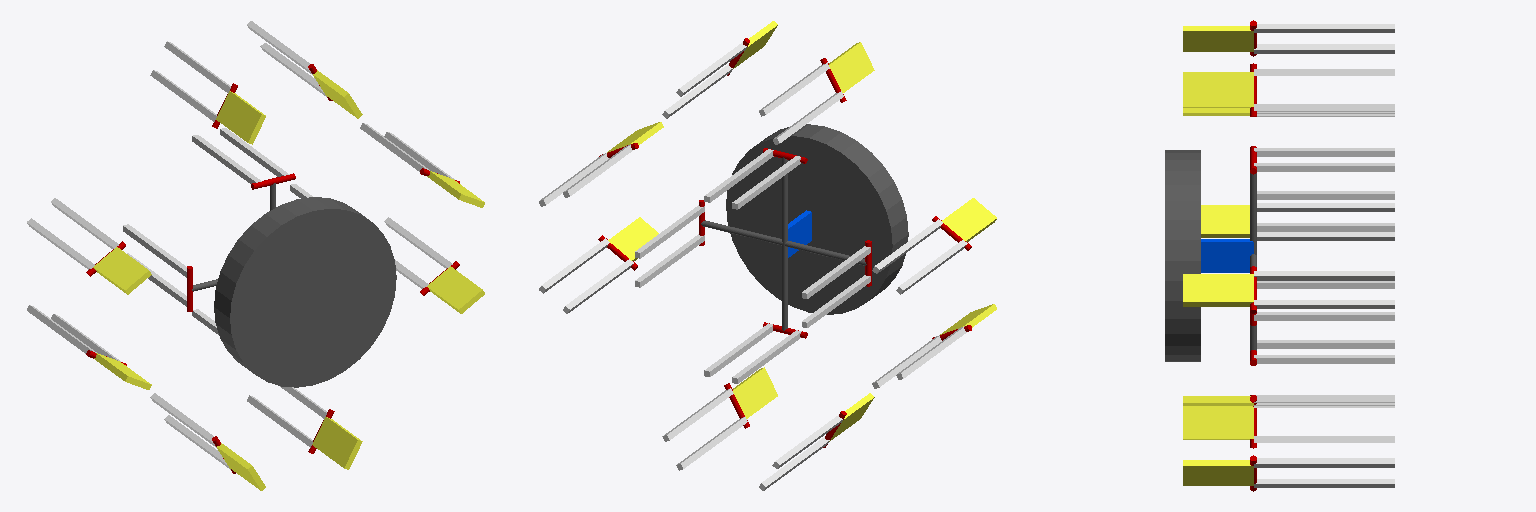
--- What the picture shows (computed from the rendered views, not written in the file) ---
3 views of the same robot in one strip: view 1: azimuth 30°, elevation 25°; view 2: azimuth 150°, elevation 25°; view 3: azimuth 270°, elevation 25° (orthographic).
Model ur5e with 61 links and 60 joints (42 revolute, 9 prismatic, 9 fixed), rooted at world, posed all joints at 0.
Links seen in each view (by area): view 1: dbase_link, motor_link_5, motor_link_9, motor_link_2, motor_link_6, motor_link_4, motor_link_8, parallel_2_leg1, parallel_1_leg2, parallel_2_leg2, motor_link_7, motor_link_3 (+12 smaller); view 2: dbase_link, motor_link_5, motor_link_9, motor_link_2, motor_link_6, parallel_2_leg2, parallel_4_leg1, parallel_3_leg2, parallel_2_leg1, parallel_3_leg1, parallel_4_leg2, parallel_1_leg1 (+21 smaller); view 3: dbase_link, motor_link_4, motor_link_8, motor_link_7, motor_link_5, motor_link_9, motor_link_1, motor_link_3, parallel_10_leg2, parallel_8_leg2, parallel_12_leg2, parallel_3_leg2 (+18 smaller).
Link boxes in pixels (box(x1,y1,x2,y2)): dbase_link: box(214, 197, 396, 387); motor_link_5: box(216, 91, 265, 144); motor_link_9: box(312, 417, 362, 469); motor_link_2: box(93, 247, 151, 294); motor_link_6: box(427, 266, 484, 313); motor_link_4: box(313, 70, 362, 118); motor_link_8: box(217, 443, 265, 490); parallel_2_leg1: box(192, 135, 261, 183); parallel_1_leg2: box(123, 224, 186, 277); parallel_2_leg2: box(220, 128, 289, 176); motor_link_7: box(427, 171, 484, 207); motor_link_3: box(94, 353, 151, 389); dbase_link: box(726, 124, 908, 314); motor_link_5: box(829, 42, 874, 92); motor_link_9: box(733, 367, 777, 418); motor_link_2: box(942, 198, 996, 241); motor_link_6: box(608, 217, 658, 260); parallel_2_leg2: box(704, 149, 773, 202); parallel_4_leg1: box(704, 323, 772, 376); parallel_3_leg2: box(635, 234, 704, 287); parallel_2_leg1: box(732, 156, 800, 209); parallel_3_leg1: box(635, 205, 704, 258); parallel_4_leg2: box(732, 330, 801, 383); parallel_1_leg1: box(802, 275, 870, 327); dbase_link: box(1165, 150, 1200, 361); motor_link_4: box(1183, 72, 1253, 107); motor_link_8: box(1183, 406, 1253, 439); motor_link_7: box(1183, 274, 1253, 306); motor_link_5: box(1183, 26, 1253, 51); motor_link_9: box(1183, 460, 1253, 485); motor_link_1: box(1201, 239, 1253, 272); motor_link_3: box(1201, 205, 1249, 237); parallel_10_leg2: box(1254, 271, 1394, 280); parallel_8_leg2: box(1254, 44, 1394, 53); parallel_12_leg2: box(1254, 458, 1394, 467); parallel_3_leg2: box(1254, 312, 1394, 320).
Size in the robot's own frame: 0.134 by 0.065 by 0.134 metres.
0 mesh visuals loaded from 7 distinct referenced files (none loaded); not drawn: 7 (reference not matched to a file when rendering).

URDF robot description (ur5e):
<?xml version="1" ?>
<!-- =================================================================================== -->
<!-- This document is combination of following:  -->

<!-- ur5e.urdf.xacro -->

 <!-- =================================================================================== -->
 <robot name="ur5e" xmlns:xacro="http://ros.org/wiki/xacro">
    <material name="black">
        <color rgba="0 0 0 1"/>
    </material>
    <material name="LightGrey">
        <color rgba="0.7 0.7 0.7 1.0"/>
    </material>
    <material name="darkgrey">
        <color rgba="0.3 0.3 0.3 1"/>
    </material>
    <material name="grey">
        <color rgba="0.5 0.5 0.5 1"/>
    </material>
    <material name="firebrick">
        <color rgba="0.545 0.102 0.102 1"/>
    </material>
    <material name="white">
        <color rgba="0.9 0.9 0.9 1"/>
    </material>
    <material  name="Black" >
     <color  rgba="0 0 0 1" />
    </material>
    <material  name="Blue" >
     <color  rgba="0.0 0.0 0.8 1.0" />
    </material>
    <material  name="Green" >
     <color  rgba="0.0 0.8 0.0 1.0" />
    </material>
    <material  name="Grey" >
     <color  rgba="0.4 0.4 0.4 1.0" />
    </material>
    <material  name="Orange" >
     <color  rgba="1.0 0.4235294117647059 0.0392156862745098 1.0" />
    </material>
    <material  name="Brown" >
     <color  rgba="0.8705882352941177 0.8117647058823529 0.7647058823529411 1.0" />
    </material>
    <material  name="Red" >
     <color  rgba="0.8 0.0 0.0 1.0" />
    </material>
    <material  name="BananaYellow" >
     <color  rgba="0.9803921568627451 0.996078431372549 0.29411764705882354 1.0" />
    </material>
    <material  name="BrightBlue" >
     <color  rgba="0.00392156862745098 0.396078431372549 0.9882352941176471 1.0" />
    </material>
    <material  name="White" >
     <color  rgba="1.0 1.0 1.0 1.0" />
    </material>
   <link name="base_link">
     <visual>
       <geometry>
         <mesh filename="ur5e_robot/collision/base.stl"/>
       </geometry>
       <material name="LightGrey">
         <color rgba="0.7 0.7 0.7 1.0"/>
       </material>
     </visual>
     <collision>
       <geometry>
         <mesh filename="ur5e_robot/collision/base.stl" scale="1.0 1.0 1.0"/>
       </geometry>
     </collision>
     <inertial>
       <mass value="4.0"/>
       <origin rpy="0 0 0" xyz="0.0 0.0 0.0"/>
       <inertia ixx="0.00443333156" ixy="0.0" ixz="0.0" iyy="0.00443333156" iyz="0.0" izz="0.0072"/>
     </inertial>
   </link>
   <joint name="shoulder_pan_joint" type="revolute">
     <parent link="base_link"/>
     <child link="shoulder_link"/>
     <origin rpy="0.0 0.0 0.0" xyz="0.0 0.0 0.163"/>
     <axis xyz="0 0 1"/>
     <limit effort="150.0" lower="-6.28318530718" upper="6.28318530718" velocity="1"/>
     <dynamics damping="0.0" friction="0.0"/>
   </joint>
   <link name="shoulder_link">
     <visual>
       <geometry>
         <mesh filename="ur5e_robot//collision//shoulder.stl"/>
       </geometry>
       <material name="darkgrey"/>
     </visual>
     <collision>
       <geometry>
         <mesh filename="ur5e_robot//collision//shoulder.stl" scale="1.0 1.0 1.0"/>
       </geometry>
     </collision>
     <inertial>
       <mass value="3.7"/>
       <origin rpy="0 0 0" xyz="0.0 0.0 0.0"/>
       <inertia ixx="0.010267495893" ixy="0.0" ixz="0.0" iyy="0.010267495893" iyz="0.0" izz="0.00666"/>
     </inertial>
   </link>
   <joint name="shoulder_lift_joint" type="revolute">
     <parent link="shoulder_link"/>
     <child link="upper_arm_link"/>
     <origin rpy="0.0 1.57079632679 0.0" xyz="0.0 0.138 0.0"/>
     <axis xyz="0 1 0"/>
     <limit effort="150.0" lower="-6.28318530718" upper="6.28318530718" velocity="1"/>
     <dynamics damping="0.0" friction="0.0"/>
   </joint>
   <link name="upper_arm_link">
     <visual>
       <geometry>
         <mesh filename="ur5e_robot//collision//upperarm.stl"/>
       </geometry>
       <material name="LightGrey"/>
     </visual>
     <collision>
       <geometry>
         <mesh filename="ur5e_robot//collision//upperarm.stl" scale="1.0 1.0 1.0"/>
       </geometry>
     </collision>
     <inertial>
       <mass value="8.393"/>
       <origin rpy="0 0 0" xyz="0.0 0.0 0.2125"/>
       <inertia ixx="0.133885781862" ixy="0.0" ixz="0.0" iyy="0.133885781862" iyz="0.0" izz="0.0151074"/>
     </inertial>
   </link>
   <joint name="elbow_joint" type="revolute">
     <parent link="upper_arm_link"/>
     <child link="forearm_link"/>
     <origin rpy="0.0 0.0 0.0" xyz="0.0 -0.131 0.425"/>
     <axis xyz="0 1 0"/>
     <limit effort="150.0" lower="-3.14159265359" upper="3.14159265359" velocity="1"/>
     <dynamics damping="0.0" friction="0.0"/>
   </joint>
   <link name="forearm_link">
     <visual>
       <geometry>
         <mesh filename="ur5e_robot//collision//forearm.stl"/>
       </geometry>
       <material name="LightGrey"/>

     </visual>
     <collision>
       <geometry>
         <mesh filename="ur5e_robot//collision//forearm.stl" scale="1.0 1.0 1.0"/>
       </geometry>
     </collision>
     <inertial>
       <mass value="2.275"/>
       <origin rpy="0 0 0" xyz="0.0 0.0 0.196"/>
       <inertia ixx="0.0311796208615" ixy="0.0" ixz="0.0" iyy="0.0311796208615" iyz="0.0" izz="0.004095"/>
     </inertial>
   </link>
   <joint name="wrist_1_joint" type="revolute">
     <parent link="forearm_link"/>
     <child link="wrist_1_link"/>
     <origin rpy="0.0 1.57079632679 0.0" xyz="0.0 0.0 0.392"/>
     <axis xyz="0 1 0"/>
     <limit effort="28.0" lower="-6.28318530718" upper="6.28318530718" velocity="1"/>
     <dynamics damping="0.0" friction="0.0"/>
   </joint>
   <link name="wrist_1_link">
     <visual>
       <geometry>
         <mesh filename="ur5e_robot//collision//wrist1.stl"/>
       </geometry>
       <material name="darkgrey"/>

     </visual>
     <collision>
       <geometry>
         <mesh filename="ur5e_robot//collision//wrist1.stl" scale="1.0 1.0 1.0"/>
       </geometry>
     </collision>
     <inertial>
       <mass value="1.219"/>
       <origin rpy="0 0 0" xyz="0.0 0.127 0.0"/>
       <inertia ixx="0.00255989897604" ixy="0.0" ixz="0.0" iyy="0.00255989897604" iyz="0.0" izz="0.0021942"/>
     </inertial>
   </link>
   <joint name="wrist_2_joint" type="revolute">
     <parent link="wrist_1_link"/>
     <child link="wrist_2_link"/>
     <origin rpy="0.0 0.0 0.0" xyz="0.0 0.127 0.0"/>
     <axis xyz="0 0 1"/>
     <limit effort="28.0" lower="-6.28318530718" upper="6.28318530718" velocity="1"/>
     <dynamics damping="0.0" friction="0.0"/>
   </joint>
   <link name="wrist_2_link">
     <visual>
       <geometry>
         <mesh filename="ur5e_robot//collision//wrist2.stl"/>
       </geometry>
       <material name="darkgrey"/>
     </visual>
     <collision>
       <geometry>
         <mesh filename="ur5e_robot//collision//wrist2.stl" scale="1.0 1.0 1.0"/>
       </geometry>
     </collision>
     <inertial>
       <mass value="1.219"/>
       <origin rpy="0 0 0" xyz="0.0 0.0 0.1"/>
       <inertia ixx="0.00255989897604" ixy="0.0" ixz="0.0" iyy="0.00255989897604" iyz="0.0" izz="0.0021942"/>
     </inertial>
   </link>
   <joint name="wrist_3_joint" type="revolute">
     <parent link="wrist_2_link"/>
     <child link="wrist_3_link"/>
     <origin rpy="0.0 0.0 0.0" xyz="0.0 0.0 0.1"/>
     <axis xyz="0 1 0"/>
     <limit effort="28.0" lower="-6.28318530718" upper="6.28318530718" velocity="1"/>
     <dynamics damping="0.0" friction="0.0"/>
   </joint>
   <link name="wrist_3_link">
     <visual>
       <geometry>
         <mesh filename="ur5e_robot//collision//wrist3.stl"/>
       </geometry>
       <material name="LightGrey"/>
     </visual>
     <collision>
       <geometry>
         <mesh filename="ur5e_robot//collision//wrist3.stl" scale="1.0 1.0 1.0"/>
       </geometry>
     </collision>
     <inertial>
       <mass value="0.1879"/>
       <origin rpy="1.57079632679 0 0" xyz="0.0 0.0771 0.0"/>
       <inertia ixx="9.89041005217e-05" ixy="0.0" ixz="0.0" iyy="9.89041005217e-05" iyz="0.0" izz="0.0001321171875"/>
     </inertial>
   </link>
   <joint name="ee_link" type="fixed">
     <parent link="wrist_3_link"/>
     <child link="ee_link"/>
     <origin rpy="0.0 0.0 1.57079632679" xyz="0.0 0.1 0.0"/>
   </joint>
   <link name="ee_link">
     <collision>
       <geometry>
         <box size="0.01 0.01 0.01"/>
       </geometry>
       <origin rpy="0 0 0" xyz="-0.01 0 0"/>
     </collision>
   </link>
   <transmission name="shoulder_pan_trans">
     <type>transmission_interface/SimpleTransmission</type>
     <joint name="shoulder_pan_joint">
       <hardwareInterface>hardware_interface/PositionJointInterface</hardwareInterface>
     </joint>
     <actuator name="shoulder_pan_motor">
       <mechanicalReduction>1</mechanicalReduction>
     </actuator>
   </transmission>
   <transmission name="shoulder_lift_trans">
     <type>transmission_interface/SimpleTransmission</type>
     <joint name="shoulder_lift_joint">
       <hardwareInterface>hardware_interface/PositionJointInterface</hardwareInterface>
     </joint>
     <actuator name="shoulder_lift_motor">
       <mechanicalReduction>1</mechanicalReduction>
     </actuator>
   </transmission>
   <transmission name="elbow_trans">
     <type>transmission_interface/SimpleTransmission</type>
     <joint name="elbow_joint">
       <hardwareInterface>hardware_interface/PositionJointInterface</hardwareInterface>
     </joint>
     <actuator name="elbow_motor">
       <mechanicalReduction>1</mechanicalReduction>
     </actuator>
   </transmission>
   <transmission name="wrist_1_trans">
     <type>transmission_interface/SimpleTransmission</type>
     <joint name="wrist_1_joint">
       <hardwareInterface>hardware_interface/PositionJointInterface</hardwareInterface>
     </joint>
     <actuator name="wrist_1_motor">
       <mechanicalReduction>1</mechanicalReduction>
     </actuator>
   </transmission>
   <transmission name="wrist_2_trans">
     <type>transmission_interface/SimpleTransmission</type>
     <joint name="wrist_2_joint">
       <hardwareInterface>hardware_interface/PositionJointInterface</hardwareInterface>
     </joint>
     <actuator name="wrist_2_motor">
       <mechanicalReduction>1</mechanicalReduction>
     </actuator>
   </transmission>
   <transmission name="wrist_3_trans">
     <type>transmission_interface/SimpleTransmission</type>
     <joint name="wrist_3_joint">
       <hardwareInterface>hardware_interface/PositionJointInterface</hardwareInterface>
     </joint>
     <actuator name="wrist_3_motor">
       <mechanicalReduction>1</mechanicalReduction>
     </actuator>
   </transmission>
   <gazebo reference="shoulder_link">
     <selfCollide>true</selfCollide>
   </gazebo>
   <gazebo reference="upper_arm_link">
     <selfCollide>true</selfCollide>
   </gazebo>
   <gazebo reference="forearm_link">
     <selfCollide>true</selfCollide>
   </gazebo>
   <gazebo reference="wrist_1_link">
     <selfCollide>true</selfCollide>
   </gazebo>
   <gazebo reference="wrist_3_link">
     <selfCollide>true</selfCollide>
   </gazebo>
   <gazebo reference="wrist_2_link">
     <selfCollide>true</selfCollide>
   </gazebo>
   <gazebo reference="ee_link">
     <selfCollide>true</selfCollide>
   </gazebo>
   <!-- ROS base_link to UR 'Base' Coordinates transform -->
   <link name="base"/>
   <joint name="base_link-base_fixed_joint" type="fixed">
     <!-- NOTE: this rotation is only needed as long as base_link itself is
                  not corrected wrt the real robot (ie: rotated over 180
                  degrees)
       -->
     <origin rpy="0 0 -3.14159265359" xyz="0 0 0"/>
     <parent link="base_link"/>
     <child link="base"/>
   </joint>
   <!-- Frame coincident with all-zeros TCP on UR controller -->
   <link name="tool0"/>
   <joint name="wrist_3_link-tool0_fixed_joint" type="fixed">
     <origin rpy="-1.57079632679 0 0" xyz="0 0.1 0"/>
     <parent link="wrist_3_link"/>
     <child link="tool0"/>
   </joint>
   <link name="world"/>
   <joint name="world_joint" type="fixed">
     <parent link="world"/>
     <child link="base_link"/>
     <origin rpy="0.0 0.0 0.0" xyz="0.0 0.0 0.0"/>
   </joint>

   <!-- delta.urdf -->
   <joint  type="fixed"  name="base_joint" >
    <parent  link="ee_link" />
    <child  link="dbase_link" />
    <origin  rpy="0 1.57079632679 0"  xyz="0 0.0 0" />
   </joint>
   <link  name="dbase_link" >
    <inertial >
     <mass  value="0.01" />
     <inertia  izz="0.001"  ixz="0.0"  iyy="0.001"  ixy="0.0"  iyz="0.0"  ixx="0.001" />
    </inertial>
    <visual >
     <origin  xyz="0 0 0"  rpy="0 0 0" />
     <geometry >
      <cylinder  length="0.01"  radius="0.03" />
     </geometry>
     <material  name="Grey" />
    </visual>
    <collision >
     <origin  xyz="0 0 0"  rpy="0 0 0" />
     <geometry >
      <cylinder  length="0.01"  radius="0.03" />
     </geometry>
     <material  name="Grey" />
    </collision>
   </link>
   <joint  name="motor_joint_1"  type="prismatic" >
    <axis  xyz="0 0 1" />
    <limit  velocity="1"  upper="0.1"  lower="0.0"  effort="100" />
    <parent  link="dbase_link" />
    <child  link="motor_link_1" />
    <origin  xyz="0 0 0"  rpy="0 0 0" />
   </joint>
   <link  name="motor_link_1" >
    <inertial >
     <mass  value="0.01" />
     <inertia  izz="0.001"  ixz="0.0"  iyy="0.001"  ixy="0.0"  iyz="0.0"  ixx="0.001" />
    </inertial>
    <visual >
     <origin  xyz="0 0 0.01"  rpy="0 0 0" />
     <geometry >
      <box  size="0.01 0.002 0.02" />
     </geometry>
     <material  name="BrightBlue" />
    </visual>
    <collision >
     <origin  xyz="0 0 0.01"  rpy="0 0 0" />
     <geometry >
      <box  size="0.01 0.002 0.02" />
     </geometry>
     <material  name="BrightBlue" />
    </collision>
   </link>
   <joint  name="motor_joint_2"  type="prismatic" >
    <axis  xyz="0 0 1" />
    <limit  velocity="1"  upper="0.1"  lower="0.0"  effort="100" />
    <parent  link="dbase_link" />
    <child  link="motor_link_2" />
    <origin  xyz="0.017320508075688773 -0.06 0.0"  rpy="0 0 -2.0943951023931953" />
   </joint>
   <link  name="motor_link_2" >
    <inertial >
     <mass  value="0.01" />
     <inertia  izz="0.001"  ixz="0.0"  iyy="0.001"  ixy="0.0"  iyz="0.0"  ixx="0.001" />
    </inertial>
    <visual >
     <origin  xyz="0 0 0.01"  rpy="0 0 0" />
     <geometry >
      <box  size="0.01 0.002 0.02" />
     </geometry>
     <material  name="BananaYellow" />
    </visual>
    <collision >
     <origin  xyz="0 0 0.01"  rpy="0 0 0" />
     <geometry >
      <box  size="0.01 0.002 0.02" />
     </geometry>
     <material  name="BananaYellow" />
    </collision>
   </link>
   <joint  name="motor_joint_3"  type="prismatic" >
    <axis  xyz="0 0 1" />
    <limit  velocity="1"  upper="0.1"  lower="0.0"  effort="100" />
    <parent  link="dbase_link" />
    <child  link="motor_link_3" />
    <origin  xyz="-0.017320508075688773 -0.06 0.0"  rpy="0 0 2.0943951023931953" />
   </joint>
   <link  name="motor_link_3" >
    <inertial >
     <mass  value="0.01" />
     <inertia  izz="0.001"  ixz="0.0"  iyy="0.001"  ixy="0.0"  iyz="0.0"  ixx="0.001" />
    </inertial>
    <visual >
     <origin  xyz="0 0 0.01"  rpy="0 0 0" />
     <geometry >
      <box  size="0.01 0.002 0.02" />
     </geometry>
     <material  name="BananaYellow" />
    </visual>
    <collision >
     <origin  xyz="0 0 0.01"  rpy="0 0 0" />
     <geometry >
      <box  size="0.01 0.002 0.02" />
     </geometry>
     <material  name="BananaYellow" />
    </collision>
   </link>
   <joint  name="motor_joint_4"  type="prismatic" >
    <axis  xyz="0 0 1" />
    <limit  velocity="1"  upper="0.1"  lower="0.0"  effort="100" />
    <parent  link="dbase_link" />
    <child  link="motor_link_4" />
    <origin  xyz="0.06 0.017320508075688773 0.0"  rpy="0 0 -0.5235987755982988" />
   </joint>
   <link  name="motor_link_4" >
    <inertial >
     <mass  value="0.01" />
     <inertia  izz="0.001"  ixz="0.0"  iyy="0.001"  ixy="0.0"  iyz="0.0"  ixx="0.001" />
    </inertial>
    <visual >
     <origin  xyz="0 0 0.01"  rpy="0 0 0" />
     <geometry >
      <box  size="0.01 0.002 0.02" />
     </geometry>
     <material  name="BananaYellow" />
    </visual>
    <collision >
     <origin  xyz="0 0 0.01"  rpy="0 0 0" />
     <geometry >
      <box  size="0.01 0.002 0.02" />
     </geometry>
     <material  name="BananaYellow" />
    </collision>
   </link>
   <joint  name="motor_joint_5"  type="prismatic" >
    <axis  xyz="0 0 1" />
    <limit  velocity="1"  upper="0.1"  lower="0.0"  effort="100" />
    <parent  link="dbase_link" />
    <child  link="motor_link_5" />
    <origin  xyz="0.06 -0.017320508075688773 0.0"  rpy="0 0 -2.6179938779914944" />
   </joint>
   <link  name="motor_link_5" >
    <inertial >
     <mass  value="0.01" />
     <inertia  izz="0.001"  ixz="0.0"  iyy="0.001"  ixy="0.0"  iyz="0.0"  ixx="0.001" />
    </inertial>
    <visual >
     <origin  xyz="0 0 0.01"  rpy="0 0 0" />
     <geometry >
      <box  size="0.01 0.002 0.02" />
     </geometry>
     <material  name="BananaYellow" />
    </visual>
    <collision >
     <origin  xyz="0 0 0.01"  rpy="0 0 0" />
     <geometry >
      <box  size="0.01 0.002 0.02" />
     </geometry>
     <material  name="BananaYellow" />
    </collision>
   </link>
   <joint  name="motor_joint_6"  type="prismatic" >
    <axis  xyz="0 0 1" />
    <limit  velocity="1"  upper="0.1"  lower="0.0"  effort="100" />
    <parent  link="dbase_link" />
    <child  link="motor_link_6" />
    <origin  xyz="-0.017320508075688773 0.06 0.0"  rpy="0 0 1.0471975511965976" />
   </joint>
   <link  name="motor_link_6" >
    <inertial >
     <mass  value="0.01" />
     <inertia  izz="0.001"  ixz="0.0"  iyy="0.001"  ixy="0.0"  iyz="0.0"  ixx="0.001" />
    </inertial>
    <visual >
     <origin  xyz="0 0 0.01"  rpy="0 0 0" />
     <geometry >
      <box  size="0.01 0.002 0.02" />
     </geometry>
     <material  name="BananaYellow" />
    </visual>
    <collision >
     <origin  xyz="0 0 0.01"  rpy="0 0 0" />
     <geometry >
      <box  size="0.01 0.002 0.02" />
     </geometry>
     <material  name="BananaYellow" />
    </collision>
   </link>
   <joint  name="motor_joint_7"  type="prismatic" >
    <axis  xyz="0 0 1" />
    <limit  velocity="1"  upper="0.1"  lower="0.0"  effort="100" />
    <parent  link="dbase_link" />
    <child  link="motor_link_7" />
    <origin  xyz="0.017320508075688773 0.06 0.0"  rpy="0 0 -1.0471975511965976" />
   </joint>
   <link  name="motor_link_7" >
    <inertial >
     <mass  value="0.01" />
     <inertia  izz="0.001"  ixz="0.0"  iyy="0.001"  ixy="0.0"  iyz="0.0"  ixx="0.001" />
    </inertial>
    <visual >
     <origin  xyz="0 0 0.01"  rpy="0 0 0" />
     <geometry >
      <box  size="0.01 0.002 0.02" />
     </geometry>
     <material  name="BananaYellow" />
    </visual>
    <collision >
     <origin  xyz="0 0 0.01"  rpy="0 0 0" />
     <geometry >
      <box  size="0.01 0.002 0.02" />
     </geometry>
     <material  name="BananaYellow" />
    </collision>
   </link>
   <joint  name="motor_joint_8"  type="prismatic" >
    <axis  xyz="0 0 1" />
    <limit  velocity="1"  upper="0.1"  lower="0.0"  effort="100" />
    <parent  link="dbase_link" />
    <child  link="motor_link_8" />
    <origin  xyz="-0.06 -0.017320508075688773 0.0"  rpy="0 0 2.6179938779914944" />
   </joint>
   <link  name="motor_link_8" >
    <inertial >
     <mass  value="0.01" />
     <inertia  izz="0.001"  ixz="0.0"  iyy="0.001"  ixy="0.0"  iyz="0.0"  ixx="0.001" />
    </inertial>
    <visual >
     <origin  xyz="0 0 0.01"  rpy="0 0 0" />
     <geometry >
      <box  size="0.01 0.002 0.02" />
     </geometry>
     <material  name="BananaYellow" />
    </visual>
    <collision >
     <origin  xyz="0 0 0.01"  rpy="0 0 0" />
     <geometry >
      <box  size="0.01 0.002 0.02" />
     </geometry>
     <material  name="BananaYellow" />
    </collision>
   </link>
   <joint  name="motor_joint_9"  type="prismatic" >
    <axis  xyz="0 0 1" />
    <limit  velocity="1"  upper="0.1"  lower="0.0"  effort="100" />
    <parent  link="dbase_link" />
    <child  link="motor_link_9" />
    <origin  xyz="-0.06 0.017320508075688773 0.0"  rpy="0 0 0.5235987755982988" />
   </joint>
   <link  name="motor_link_9" >
    <inertial >
     <mass  value="0.01" />
     <inertia  izz="0.001"  ixz="0.0"  iyy="0.001"  ixy="0.0"  iyz="0.0"  ixx="0.001" />
    </inertial>
    <visual >
     <origin  xyz="0 0 0.01"  rpy="0 0 0" />
     <geometry >
      <box  size="0.01 0.002 0.02" />
     </geometry>
     <material  name="BananaYellow" />
    </visual>
    <collision >
     <origin  xyz="0 0 0.01"  rpy="0 0 0" />
     <geometry >
      <box  size="0.01 0.002 0.02" />
     </geometry>
     <material  name="BananaYellow" />
    </collision>
   </link>
   <joint  name="bar_joint_1"  type="fixed" >
    <parent  link="motor_link_1" />
    <child  link="bar_link_1" />
    <origin  xyz="0 0 0.02"  rpy="1.5707963267948966 0 0.0" />
   </joint>
   <link  name="bar_link_1" >
    <inertial >
     <mass  value="0.01" />
     <inertia  izz="0.001"  ixz="0.0"  iyy="0.001"  ixy="0.0"  iyz="0.0"  ixx="0.001" />
    </inertial>
    <visual >
     <origin  xyz="0 0 0.015"  rpy="0 0 0" />
     <geometry >
      <cylinder  length="0.03"  radius="0.001" />
     </geometry>
     <material  name="Grey" />
    </visual>
    <collision >
     <origin  xyz="0 0 0.015"  rpy="0 0 0" />
     <geometry >
      <cylinder  length="0.03"  radius="0.001" />
     </geometry>
     <material  name="Grey" />
    </collision>
   </link>
   <joint  name="bar_joint_2"  type="fixed" >
    <parent  link="motor_link_1" />
    <child  link="bar_link_2" />
    <origin  xyz="0 0 0.02"  rpy="1.5707963267948966 0 1.5707963267948966" />
   </joint>
   <link  name="bar_link_2" >
    <inertial >
     <mass  value="0.01" />
     <inertia  izz="0.001"  ixz="0.0"  iyy="0.001"  ixy="0.0"  iyz="0.0"  ixx="0.001" />
    </inertial>
    <visual >
     <origin  xyz="0 0 0.015"  rpy="0 0 0" />
     <geometry >
      <cylinder  length="0.03"  radius="0.001" />
     </geometry>
     <material  name="Grey" />
    </visual>
    <collision >
     <origin  xyz="0 0 0.015"  rpy="0 0 0" />
     <geometry >
      <cylinder  length="0.03"  radius="0.001" />
     </geometry>
     <material  name="Grey" />
    </collision>
   </link>
   <joint  name="bar_joint_3"  type="fixed" >
    <parent  link="motor_link_1" />
    <child  link="bar_link_3" />
    <origin  xyz="0 0 0.02"  rpy="1.5707963267948966 0 3.141592653589793" />
   </joint>
   <link  name="bar_link_3" >
    <inertial >
     <mass  value="0.01" />
     <inertia  izz="0.001"  ixz="0.0"  iyy="0.001"  ixy="0.0"  iyz="0.0"  ixx="0.001" />
    </inertial>
    <visual >
     <origin  xyz="0 0 0.015"  rpy="0 0 0" />
     <geometry >
      <cylinder  length="0.03"  radius="0.001" />
     </geometry>
     <material  name="Grey" />
    </visual>
    <collision >
     <origin  xyz="0 0 0.015"  rpy="0 0 0" />
     <geometry >
      <cylinder  length="0.03"  radius="0.001" />
     </geometry>
     <material  name="Grey" />
    </collision>
   </link>
   <joint  name="bar_joint_4"  type="fixed" >
    <parent  link="motor_link_1" />
    <child  link="bar_link_4" />
    <origin  xyz="0 0 0.02"  rpy="1.5707963267948966 0 -1.5707963267948966" />
   </joint>
   <link  name="bar_link_4" >
    <inertial >
     <mass  value="0.01" />
     <inertia  izz="0.001"  ixz="0.0"  iyy="0.001"  ixy="0.0"  iyz="0.0"  ixx="0.001" />
    </inertial>
    <visual >
     <origin  xyz="0 0 0.015"  rpy="0 0 0" />
     <geometry >
      <cylinder  length="0.03"  radius="0.001" />
     </geometry>
     <material  name="Grey" />
    </visual>
    <collision >
     <origin  xyz="0 0 0.015"  rpy="0 0 0" />
     <geometry >
      <cylinder  length="0.03"  radius="0.001" />
     </geometry>
     <material  name="Grey" />
    </collision>
   </link>
   <joint  name="parallel_1_kneejoint"  type="revolute" >
    <axis  xyz="1 0 0" />
    <limit  velocity="1"  upper="3.141592653589793"  lower="-3.141592653589793"  effort="100" />
    <parent  link="bar_link_1" />
    <child  link="parallel_1_knee" />
    <origin  xyz="0 0 0.03"  rpy="-1.5707963267948966 0 0" />
   </joint>
   <link  name="parallel_1_knee" >
    <inertial >
     <mass  value="0.01" />
     <inertia  izz="0.001"  ixz="0.0"  iyy="0.001"  ixy="0.0"  iyz="0.0"  ixx="0.001" />
    </inertial>
    <visual >
     <origin  xyz="0 0 0"  rpy="0 1.5707963267948966 0" />
     <geometry >
      <cylinder  length="0.015"  radius="0.001" />
     </geometry>
     <material  name="Red" />
    </visual>
    <collision >
     <origin  xyz="0 0 0"  rpy="0 1.5707963267948966 0" />
     <geometry >
      <cylinder  length="0.015"  radius="0.001" />
     </geometry>
     <material  name="Red" />
    </collision>
   </link>
   <joint  name="parallel_1_legjoint1"  type="revolute" >
    <axis  xyz="0 1 0" />
    <limit  velocity="1"  upper="1.5707963267948966"  lower="-1.5707963267948966"  effort="100" />
    <parent  link="parallel_1_knee" />
    <child  link="parallel_1_leg1" />
    <origin  xyz="-0.005 0 0"  rpy="0 0 0" />
   </joint>
   <joint  name="parallel_1_legjoint2"  type="revolute" >
    <axis  xyz="0 1 0" />
    <limit  velocity="1"  upper="1.5707963267948966"  lower="-1.5707963267948966"  effort="100" />
    <parent  link="parallel_1_knee" />
    <child  link="parallel_1_leg2" />
    <origin  xyz="0.005 0 0"  rpy="0 0 0" />
   </joint>
   <link  name="parallel_1_leg1" >
    <inertial >
     <mass  value="0.01" />
     <inertia  izz="0.001"  ixz="0.0"  iyy="0.001"  ixy="0.0"  iyz="0.0"  ixx="0.001" />
    </inertial>
    <visual >
     <origin  xyz="0 0 0.02"  rpy="0 0 0" />
     <geometry >
      <box  size="0.002 0.002 0.04" />
     </geometry>
     <material  name="white" />
    </visual>
    <collision >
     <origin  xyz="0 0 0.02"  rpy="0 0 0" />
     <geometry >
      <box  size="0.002 0.002 0.04" />
     </geometry>
     <material  name="white" />
    </collision>
   </link>
   <link  name="parallel_1_leg2" >
    <inertial >
     <mass  value="0.01" />
     <inertia  izz="0.001"  ixz="0.0"  iyy="0.001"  ixy="0.0"  iyz="0.0"  ixx="0.001" />
    </inertial>
    <visual >
     <origin  xyz="0 0 0.02"  rpy="0 0 0" />
     <geometry >
      <box  size="0.002 0.002 0.04" />
     </geometry>
     <material  name="white" />
    </visual>
    <collision >
     <origin  xyz="0 0 0.02"  rpy="0 0 0" />
     <geometry >
      <box  size="0.002 0.002 0.04" />
     </geometry>
     <material  name="white" />
    </collision>
   </link>
   <joint  name="parallel_2_kneejoint"  type="revolute" >
    <axis  xyz="1 0 0" />
    <limit  velocity="1"  upper="3.141592653589793"  lower="-3.141592653589793"  effort="100" />
    <parent  link="bar_link_2" />
    <child  link="parallel_2_knee" />
    <origin  xyz="0 0 0.03"  rpy="-1.5707963267948966 0 0" />
   </joint>
   <link  name="parallel_2_knee" >
    <inertial >
     <mass  value="0.01" />
     <inertia  izz="0.001"  ixz="0.0"  iyy="0.001"  ixy="0.0"  iyz="0.0"  ixx="0.001" />
    </inertial>
    <visual >
     <origin  xyz="0 0 0"  rpy="0 1.5707963267948966 0" />
     <geometry >
      <cylinder  length="0.015"  radius="0.001" />
     </geometry>
     <material  name="Red" />
    </visual>
    <collision >
     <origin  xyz="0 0 0"  rpy="0 1.5707963267948966 0" />
     <geometry >
      <cylinder  length="0.015"  radius="0.001" />
     </geometry>
     <material  name="Red" />
    </collision>
   </link>
   <joint  name="parallel_2_legjoint1"  type="revolute" >
    <axis  xyz="0 1 0" />
    <limit  velocity="1"  upper="1.5707963267948966"  lower="-1.5707963267948966"  effort="100" />
    <parent  link="parallel_2_knee" />
    <child  link="parallel_2_leg1" />
    <origin  xyz="-0.005 0 0"  rpy="0 0 0" />
   </joint>
   <joint  name="parallel_2_legjoint2"  type="revolute" >
    <axis  xyz="0 1 0" />
    <limit  velocity="1"  upper="1.5707963267948966"  lower="-1.5707963267948966"  effort="100" />
    <parent  link="parallel_2_knee" />
    <child  link="parallel_2_leg2" />
    <origin  xyz="0.005 0 0"  rpy="0 0 0" />
   </joint>
   <link  name="parallel_2_leg1" >
    <inertial >
     <mass  value="0.01" />
     <inertia  izz="0.001"  ixz="0.0"  iyy="0.001"  ixy="0.0"  iyz="0.0"  ixx="0.001" />
    </inertial>
    <visual >
     <origin  xyz="0 0 0.02"  rpy="0 0 0" />
     <geometry >
      <box  size="0.002 0.002 0.04" />
     </geometry>
     <material  name="white" />
    </visual>
    <collision >
     <origin  xyz="0 0 0.02"  rpy="0 0 0" />
     <geometry >
      <box  size="0.002 0.002 0.04" />
     </geometry>
     <material  name="white" />
    </collision>
   </link>
   <link  name="parallel_2_leg2" >
    <inertial >
     <mass  value="0.01" />
     <inertia  izz="0.001"  ixz="0.0"  iyy="0.001"  ixy="0.0"  iyz="0.0"  ixx="0.001" />
    </inertial>
    <visual >
     <origin  xyz="0 0 0.02"  rpy="0 0 0" />
     <geometry >
      <box  size="0.002 0.002 0.04" />
     </geometry>
     <material  name="white" />
    </visual>
    <collision >
     <origin  xyz="0 0 0.02"  rpy="0 0 0" />
     <geometry >
      <box  size="0.002 0.002 0.04" />
     </geometry>
     <material  name="white" />
    </collision>
   </link>
   <joint  name="parallel_3_kneejoint"  type="revolute" >
    <axis  xyz="1 0 0" />
    <limit  velocity="1"  upper="3.141592653589793"  lower="-3.141592653589793"  effort="100" />
    <parent  link="bar_link_3" />
    <child  link="parallel_3_knee" />
    <origin  xyz="0 0 0.03"  rpy="-1.5707963267948966 0 0" />
   </joint>
   <link  name="parallel_3_knee" >
    <inertial >
     <mass  value="0.01" />
     <inertia  izz="0.001"  ixz="0.0"  iyy="0.001"  ixy="0.0"  iyz="0.0"  ixx="0.001" />
    </inertial>
    <visual >
     <origin  xyz="0 0 0"  rpy="0 1.5707963267948966 0" />
     <geometry >
      <cylinder  length="0.015"  radius="0.001" />
     </geometry>
     <material  name="Red" />
    </visual>
    <collision >
     <origin  xyz="0 0 0"  rpy="0 1.5707963267948966 0" />
     <geometry >
      <cylinder  length="0.015"  radius="0.001" />
     </geometry>
     <material  name="Red" />
    </collision>
   </link>
   <joint  name="parallel_3_legjoint1"  type="revolute" >
    <axis  xyz="0 1 0" />
    <limit  velocity="1"  upper="1.5707963267948966"  lower="-1.5707963267948966"  effort="100" />
    <parent  link="parallel_3_knee" />
    <child  link="parallel_3_leg1" />
    <origin  xyz="-0.005 0 0"  rpy="0 0 0" />
   </joint>
   <joint  name="parallel_3_legjoint2"  type="revolute" >
    <axis  xyz="0 1 0" />
    <limit  velocity="1"  upper="1.5707963267948966"  lower="-1.5707963267948966"  effort="100" />
    <parent  link="parallel_3_knee" />
    <child  link="parallel_3_leg2" />
    <origin  xyz="0.005 0 0"  rpy="0 0 0" />
   </joint>
   <link  name="parallel_3_leg1" >
    <inertial >
     <mass  value="0.01" />
     <inertia  izz="0.001"  ixz="0.0"  iyy="0.001"  ixy="0.0"  iyz="0.0"  ixx="0.001" />
    </inertial>
    <visual >
     <origin  xyz="0 0 0.02"  rpy="0 0 0" />
     <geometry >
      <box  size="0.002 0.002 0.04" />
     </geometry>
     <material  name="white" />
    </visual>
    <collision >
     <origin  xyz="0 0 0.02"  rpy="0 0 0" />
     <geometry >
      <box  size="0.002 0.002 0.04" />
     </geometry>
     <material  name="white" />
    </collision>
   </link>
   <link  name="parallel_3_leg2" >
    <inertial >
     <mass  value="0.01" />
     <inertia  izz="0.001"  ixz="0.0"  iyy="0.001"  ixy="0.0"  iyz="0.0"  ixx="0.001" />
    </inertial>
    <visual >
     <origin  xyz="0 0 0.02"  rpy="0 0 0" />
     <geometry >
      <box  size="0.002 0.002 0.04" />
     </geometry>
     <material  name="white" />
    </visual>
    <collision >
     <origin  xyz="0 0 0.02"  rpy="0 0 0" />
     <geometry >
      <box  size="0.002 0.002 0.04" />
     </geometry>
     <material  name="white" />
    </collision>
   </link>
   <joint  name="parallel_4_kneejoint"  type="revolute" >
    <axis  xyz="1 0 0" />
    <limit  velocity="1"  upper="3.141592653589793"  lower="-3.141592653589793"  effort="100" />
    <parent  link="bar_link_4" />
    <child  link="parallel_4_knee" />
    <origin  xyz="0 0 0.03"  rpy="-1.5707963267948966 0 0" />
   </joint>
   <link  name="parallel_4_knee" >
    <inertial >
     <mass  value="0.01" />
     <inertia  izz="0.001"  ixz="0.0"  iyy="0.001"  ixy="0.0"  iyz="0.0"  ixx="0.001" />
    </inertial>
    <visual >
     <origin  xyz="0 0 0"  rpy="0 1.5707963267948966 0" />
     <geometry >
      <cylinder  length="0.015"  radius="0.001" />
     </geometry>
     <material  name="Red" />
    </visual>
    <collision >
     <origin  xyz="0 0 0"  rpy="0 1.5707963267948966 0" />
     <geometry >
      <cylinder  length="0.015"  radius="0.001" />
     </geometry>
     <material  name="Red" />
    </collision>
   </link>
   <joint  name="parallel_4_legjoint1"  type="revolute" >
    <axis  xyz="0 1 0" />
    <limit  velocity="1"  upper="1.5707963267948966"  lower="-1.5707963267948966"  effort="100" />
    <parent  link="parallel_4_knee" />
    <child  link="parallel_4_leg1" />
    <origin  xyz="-0.005 0 0"  rpy="0 0 0" />
   </joint>
   <joint  name="parallel_4_legjoint2"  type="revolute" >
    <axis  xyz="0 1 0" />
    <limit  velocity="1"  upper="1.5707963267948966"  lower="-1.5707963267948966"  effort="100" />
    <parent  link="parallel_4_knee" />
    <child  link="parallel_4_leg2" />
    <origin  xyz="0.005 0 0"  rpy="0 0 0" />
   </joint>
   <link  name="parallel_4_leg1" >
    <inertial >
     <mass  value="0.01" />
     <inertia  izz="0.001"  ixz="0.0"  iyy="0.001"  ixy="0.0"  iyz="0.0"  ixx="0.001" />
    </inertial>
    <visual >
     <origin  xyz="0 0 0.02"  rpy="0 0 0" />
     <geometry >
      <box  size="0.002 0.002 0.04" />
     </geometry>
     <material  name="white" />
    </visual>
    <collision >
     <origin  xyz="0 0 0.02"  rpy="0 0 0" />
     <geometry >
      <box  size="0.002 0.002 0.04" />
     </geometry>
     <material  name="white" />
    </collision>
   </link>
   <link  name="parallel_4_leg2" >
    <inertial >
     <mass  value="0.01" />
     <inertia  izz="0.001"  ixz="0.0"  iyy="0.001"  ixy="0.0"  iyz="0.0"  ixx="0.001" />
    </inertial>
    <visual >
     <origin  xyz="0 0 0.02"  rpy="0 0 0" />
     <geometry >
      <box  size="0.002 0.002 0.04" />
     </geometry>
     <material  name="white" />
    </visual>
    <collision >
     <origin  xyz="0 0 0.02"  rpy="0 0 0" />
     <geometry >
      <box  size="0.002 0.002 0.04" />
     </geometry>
     <material  name="white" />
    </collision>
   </link>
   <joint  name="parallel_5_kneejoint"  type="revolute" >
    <axis  xyz="1 0 0" />
    <limit  velocity="1"  upper="3.141592653589793"  lower="-3.141592653589793"  effort="100" />
    <parent  link="motor_link_2" />
    <child  link="parallel_5_knee" />
    <origin  xyz="0 0 0.02"  rpy="0 0 0" />
   </joint>
   <link  name="parallel_5_knee" >
    <inertial >
     <mass  value="0.01" />
     <inertia  izz="0.001"  ixz="0.0"  iyy="0.001"  ixy="0.0"  iyz="0.0"  ixx="0.001" />
    </inertial>
    <visual >
     <origin  xyz="0 0 0"  rpy="0 1.5707963267948966 0" />
     <geometry >
      <cylinder  length="0.015"  radius="0.001" />
     </geometry>
     <material  name="Red" />
    </visual>
    <collision >
     <origin  xyz="0 0 0"  rpy="0 1.5707963267948966 0" />
     <geometry >
      <cylinder  length="0.015"  radius="0.001" />
     </geometry>
     <material  name="Red" />
    </collision>
   </link>
   <joint  name="parallel_5_legjoint1"  type="revolute" >
    <axis  xyz="0 1 0" />
    <limit  velocity="1"  upper="1.5707963267948966"  lower="-1.5707963267948966"  effort="100" />
    <parent  link="parallel_5_knee" />
    <child  link="parallel_5_leg1" />
    <origin  xyz="-0.005 0 0"  rpy="0 0 0" />
   </joint>
   <joint  name="parallel_5_legjoint2"  type="revolute" >
    <axis  xyz="0 1 0" />
    <limit  velocity="1"  upper="1.5707963267948966"  lower="-1.5707963267948966"  effort="100" />
    <parent  link="parallel_5_knee" />
    <child  link="parallel_5_leg2" />
    <origin  xyz="0.005 0 0"  rpy="0 0 0" />
   </joint>
   <link  name="parallel_5_leg1" >
    <inertial >
     <mass  value="0.01" />
     <inertia  izz="0.001"  ixz="0.0"  iyy="0.001"  ixy="0.0"  iyz="0.0"  ixx="0.001" />
    </inertial>
    <visual >
     <origin  xyz="0 0 0.02"  rpy="0 0 0" />
     <geometry >
      <box  size="0.002 0.002 0.04" />
     </geometry>
     <material  name="white" />
    </visual>
    <collision >
     <origin  xyz="0 0 0.02"  rpy="0 0 0" />
     <geometry >
      <box  size="0.002 0.002 0.04" />
     </geometry>
     <material  name="white" />
    </collision>
   </link>
   <link  name="parallel_5_leg2" >
    <inertial >
     <mass  value="0.01" />
     <inertia  izz="0.001"  ixz="0.0"  iyy="0.001"  ixy="0.0"  iyz="0.0"  ixx="0.001" />
    </inertial>
    <visual >
     <origin  xyz="0 0 0.02"  rpy="0 0 0" />
     <geometry >
      <box  size="0.002 0.002 0.04" />
     </geometry>
     <material  name="white" />
    </visual>
    <collision >
     <origin  xyz="0 0 0.02"  rpy="0 0 0" />
     <geometry >
      <box  size="0.002 0.002 0.04" />
     </geometry>
     <material  name="white" />
    </collision>
   </link>
   <joint  name="parallel_6_kneejoint"  type="revolute" >
    <axis  xyz="1 0 0" />
    <limit  velocity="1"  upper="3.141592653589793"  lower="-3.141592653589793"  effort="100" />
    <parent  link="motor_link_3" />
    <child  link="parallel_6_knee" />
    <origin  xyz="0 0 0.02"  rpy="0 0 0" />
   </joint>
   <link  name="parallel_6_knee" >
    <inertial >
     <mass  value="0.01" />
     <inertia  izz="0.001"  ixz="0.0"  iyy="0.001"  ixy="0.0"  iyz="0.0"  ixx="0.001" />
    </inertial>
    <visual >
     <origin  xyz="0 0 0"  rpy="0 1.5707963267948966 0" />
     <geometry >
      <cylinder  length="0.015"  radius="0.001" />
     </geometry>
     <material  name="Red" />
    </visual>
    <collision >
     <origin  xyz="0 0 0"  rpy="0 1.5707963267948966 0" />
     <geometry >
      <cylinder  length="0.015"  radius="0.001" />
     </geometry>
     <material  name="Red" />
    </collision>
   </link>
   <joint  name="parallel_6_legjoint1"  type="revolute" >
    <axis  xyz="0 1 0" />
    <limit  velocity="1"  upper="1.5707963267948966"  lower="-1.5707963267948966"  effort="100" />
    <parent  link="parallel_6_knee" />
    <child  link="parallel_6_leg1" />
    <origin  xyz="-0.005 0 0"  rpy="0 0 0" />
   </joint>
   <joint  name="parallel_6_legjoint2"  type="revolute" >
    <axis  xyz="0 1 0" />
    <limit  velocity="1"  upper="1.5707963267948966"  lower="-1.5707963267948966"  effort="100" />
    <parent  link="parallel_6_knee" />
    <child  link="parallel_6_leg2" />
    <origin  xyz="0.005 0 0"  rpy="0 0 0" />
   </joint>
   <link  name="parallel_6_leg1" >
    <inertial >
     <mass  value="0.01" />
     <inertia  izz="0.001"  ixz="0.0"  iyy="0.001"  ixy="0.0"  iyz="0.0"  ixx="0.001" />
    </inertial>
    <visual >
     <origin  xyz="0 0 0.02"  rpy="0 0 0" />
     <geometry >
      <box  size="0.002 0.002 0.04" />
     </geometry>
     <material  name="white" />
    </visual>
    <collision >
     <origin  xyz="0 0 0.02"  rpy="0 0 0" />
     <geometry >
      <box  size="0.002 0.002 0.04" />
     </geometry>
     <material  name="white" />
    </collision>
   </link>
   <link  name="parallel_6_leg2" >
    <inertial >
     <mass  value="0.01" />
     <inertia  izz="0.001"  ixz="0.0"  iyy="0.001"  ixy="0.0"  iyz="0.0"  ixx="0.001" />
    </inertial>
    <visual >
     <origin  xyz="0 0 0.02"  rpy="0 0 0" />
     <geometry >
      <box  size="0.002 0.002 0.04" />
     </geometry>
     <material  name="white" />
    </visual>
    <collision >
     <origin  xyz="0 0 0.02"  rpy="0 0 0" />
     <geometry >
      <box  size="0.002 0.002 0.04" />
     </geometry>
     <material  name="white" />
    </collision>
   </link>
   <joint  name="parallel_7_kneejoint"  type="revolute" >
    <axis  xyz="1 0 0" />
    <limit  velocity="1"  upper="3.141592653589793"  lower="-3.141592653589793"  effort="100" />
    <parent  link="motor_link_4" />
    <child  link="parallel_7_knee" />
    <origin  xyz="0 0 0.02"  rpy="0 0 0" />
   </joint>
   <link  name="parallel_7_knee" >
    <inertial >
     <mass  value="0.01" />
     <inertia  izz="0.001"  ixz="0.0"  iyy="0.001"  ixy="0.0"  iyz="0.0"  ixx="0.001" />
    </inertial>
    <visual >
     <origin  xyz="0 0 0"  rpy="0 1.5707963267948966 0" />
     <geometry >
      <cylinder  length="0.015"  radius="0.001" />
     </geometry>
     <material  name="Red" />
    </visual>
    <collision >
     <origin  xyz="0 0 0"  rpy="0 1.5707963267948966 0" />
     <geometry >
      <cylinder  length="0.015"  radius="0.001" />
     </geometry>
     <material  name="Red" />
    </collision>
   </link>
   <joint  name="parallel_7_legjoint1"  type="revolute" >
    <axis  xyz="0 1 0" />
    <limit  velocity="1"  upper="1.5707963267948966"  lower="-1.5707963267948966"  effort="100" />
    <parent  link="parallel_7_knee" />
    <child  link="parallel_7_leg1" />
    <origin  xyz="-0.005 0 0"  rpy="0 0 0" />
   </joint>
   <joint  name="parallel_7_legjoint2"  type="revolute" >
    <axis  xyz="0 1 0" />
    <limit  velocity="1"  upper="1.5707963267948966"  lower="-1.5707963267948966"  effort="100" />
    <parent  link="parallel_7_knee" />
    <child  link="parallel_7_leg2" />
    <origin  xyz="0.005 0 0"  rpy="0 0 0" />
   </joint>
   <link  name="parallel_7_leg1" >
    <inertial >
     <mass  value="0.01" />
     <inertia  izz="0.001"  ixz="0.0"  iyy="0.001"  ixy="0.0"  iyz="0.0"  ixx="0.001" />
    </inertial>
    <visual >
     <origin  xyz="0 0 0.02"  rpy="0 0 0" />
     <geometry >
      <box  size="0.002 0.002 0.04" />
     </geometry>
     <material  name="white" />
    </visual>
    <collision >
     <origin  xyz="0 0 0.02"  rpy="0 0 0" />
     <geometry >
      <box  size="0.002 0.002 0.04" />
     </geometry>
     <material  name="white" />
    </collision>
   </link>
   <link  name="parallel_7_leg2" >
    <inertial >
     <mass  value="0.01" />
     <inertia  izz="0.001"  ixz="0.0"  iyy="0.001"  ixy="0.0"  iyz="0.0"  ixx="0.001" />
    </inertial>
    <visual >
     <origin  xyz="0 0 0.02"  rpy="0 0 0" />
     <geometry >
      <box  size="0.002 0.002 0.04" />
     </geometry>
     <material  name="white" />
    </visual>
    <collision >
     <origin  xyz="0 0 0.02"  rpy="0 0 0" />
     <geometry >
      <box  size="0.002 0.002 0.04" />
     </geometry>
     <material  name="white" />
    </collision>
   </link>
   <joint  name="parallel_8_kneejoint"  type="revolute" >
    <axis  xyz="1 0 0" />
    <limit  velocity="1"  upper="3.141592653589793"  lower="-3.141592653589793"  effort="100" />
    <parent  link="motor_link_5" />
    <child  link="parallel_8_knee" />
    <origin  xyz="0 0 0.02"  rpy="0 0 0" />
   </joint>
   <link  name="parallel_8_knee" >
    <inertial >
     <mass  value="0.01" />
     <inertia  izz="0.001"  ixz="0.0"  iyy="0.001"  ixy="0.0"  iyz="0.0"  ixx="0.001" />
    </inertial>
    <visual >
     <origin  xyz="0 0 0"  rpy="0 1.5707963267948966 0" />
     <geometry >
      <cylinder  length="0.015"  radius="0.001" />
     </geometry>
     <material  name="Red" />
    </visual>
    <collision >
     <origin  xyz="0 0 0"  rpy="0 1.5707963267948966 0" />
     <geometry >
      <cylinder  length="0.015"  radius="0.001" />
     </geometry>
     <material  name="Red" />
    </collision>
   </link>
   <joint  name="parallel_8_legjoint1"  type="revolute" >
    <axis  xyz="0 1 0" />
    <limit  velocity="1"  upper="1.5707963267948966"  lower="-1.5707963267948966"  effort="100" />
    <parent  link="parallel_8_knee" />
    <child  link="parallel_8_leg1" />
    <origin  xyz="-0.005 0 0"  rpy="0 0 0" />
   </joint>
   <joint  name="parallel_8_legjoint2"  type="revolute" >
    <axis  xyz="0 1 0" />
    <limit  velocity="1"  upper="1.5707963267948966"  lower="-1.5707963267948966"  effort="100" />
    <parent  link="parallel_8_knee" />
    <child  link="parallel_8_leg2" />
    <origin  xyz="0.005 0 0"  rpy="0 0 0" />
   </joint>
   <link  name="parallel_8_leg1" >
    <inertial >
     <mass  value="0.01" />
     <inertia  izz="0.001"  ixz="0.0"  iyy="0.001"  ixy="0.0"  iyz="0.0"  ixx="0.001" />
    </inertial>
    <visual >
     <origin  xyz="0 0 0.02"  rpy="0 0 0" />
     <geometry >
      <box  size="0.002 0.002 0.04" />
     </geometry>
     <material  name="white" />
    </visual>
    <collision >
     <origin  xyz="0 0 0.02"  rpy="0 0 0" />
     <geometry >
      <box  size="0.002 0.002 0.04" />
     </geometry>
     <material  name="white" />
    </collision>
   </link>
   <link  name="parallel_8_leg2" >
    <inertial >
     <mass  value="0.01" />
     <inertia  izz="0.001"  ixz="0.0"  iyy="0.001"  ixy="0.0"  iyz="0.0"  ixx="0.001" />
    </inertial>
    <visual >
     <origin  xyz="0 0 0.02"  rpy="0 0 0" />
     <geometry >
      <box  size="0.002 0.002 0.04" />
     </geometry>
     <material  name="white" />
    </visual>
    <collision >
     <origin  xyz="0 0 0.02"  rpy="0 0 0" />
     <geometry >
      <box  size="0.002 0.002 0.04" />
     </geometry>
     <material  name="white" />
    </collision>
   </link>
   <joint  name="parallel_9_kneejoint"  type="revolute" >
    <axis  xyz="1 0 0" />
    <limit  velocity="1"  upper="3.141592653589793"  lower="-3.141592653589793"  effort="100" />
    <parent  link="motor_link_6" />
    <child  link="parallel_9_knee" />
    <origin  xyz="0 0 0.02"  rpy="0 0 0" />
   </joint>
   <link  name="parallel_9_knee" >
    <inertial >
     <mass  value="0.01" />
     <inertia  izz="0.001"  ixz="0.0"  iyy="0.001"  ixy="0.0"  iyz="0.0"  ixx="0.001" />
    </inertial>
    <visual >
     <origin  xyz="0 0 0"  rpy="0 1.5707963267948966 0" />
     <geometry >
      <cylinder  length="0.015"  radius="0.001" />
     </geometry>
     <material  name="Red" />
    </visual>
    <collision >
     <origin  xyz="0 0 0"  rpy="0 1.5707963267948966 0" />
     <geometry >
      <cylinder  length="0.015"  radius="0.001" />
     </geometry>
     <material  name="Red" />
    </collision>
   </link>
   <joint  name="parallel_9_legjoint1"  type="revolute" >
    <axis  xyz="0 1 0" />
    <limit  velocity="1"  upper="1.5707963267948966"  lower="-1.5707963267948966"  effort="100" />
    <parent  link="parallel_9_knee" />
    <child  link="parallel_9_leg1" />
    <origin  xyz="-0.005 0 0"  rpy="0 0 0" />
   </joint>
   <joint  name="parallel_9_legjoint2"  type="revolute" >
    <axis  xyz="0 1 0" />
    <limit  velocity="1"  upper="1.5707963267948966"  lower="-1.5707963267948966"  effort="100" />
    <parent  link="parallel_9_knee" />
    <child  link="parallel_9_leg2" />
    <origin  xyz="0.005 0 0"  rpy="0 0 0" />
   </joint>
   <link  name="parallel_9_leg1" >
    <inertial >
     <mass  value="0.01" />
     <inertia  izz="0.001"  ixz="0.0"  iyy="0.001"  ixy="0.0"  iyz="0.0"  ixx="0.001" />
    </inertial>
    <visual >
     <origin  xyz="0 0 0.02"  rpy="0 0 0" />
     <geometry >
      <box  size="0.002 0.002 0.04" />
     </geometry>
     <material  name="white" />
    </visual>
    <collision >
     <origin  xyz="0 0 0.02"  rpy="0 0 0" />
     <geometry >
      <box  size="0.002 0.002 0.04" />
     </geometry>
     <material  name="white" />
    </collision>
   </link>
   <link  name="parallel_9_leg2" >
    <inertial >
     <mass  value="0.01" />
     <inertia  izz="0.001"  ixz="0.0"  iyy="0.001"  ixy="0.0"  iyz="0.0"  ixx="0.001" />
    </inertial>
    <visual >
     <origin  xyz="0 0 0.02"  rpy="0 0 0" />
     <geometry >
      <box  size="0.002 0.002 0.04" />
     </geometry>
     <material  name="white" />
    </visual>
    <collision >
     <origin  xyz="0 0 0.02"  rpy="0 0 0" />
     <geometry >
      <box  size="0.002 0.002 0.04" />
     </geometry>
     <material  name="white" />
    </collision>
   </link>
   <joint  name="parallel_10_kneejoint"  type="revolute" >
    <axis  xyz="1 0 0" />
    <limit  velocity="1"  upper="3.141592653589793"  lower="-3.141592653589793"  effort="100" />
    <parent  link="motor_link_7" />
    <child  link="parallel_10_knee" />
    <origin  xyz="0 0 0.02"  rpy="0 0 0" />
   </joint>
   <link  name="parallel_10_knee" >
    <inertial >
     <mass  value="0.01" />
     <inertia  izz="0.001"  ixz="0.0"  iyy="0.001"  ixy="0.0"  iyz="0.0"  ixx="0.001" />
    </inertial>
    <visual >
     <origin  xyz="0 0 0"  rpy="0 1.5707963267948966 0" />
     <geometry >
      <cylinder  length="0.015"  radius="0.001" />
     </geometry>
     <material  name="Red" />
    </visual>
    <collision >
     <origin  xyz="0 0 0"  rpy="0 1.5707963267948966 0" />
     <geometry >
      <cylinder  length="0.015"  radius="0.001" />
     </geometry>
     <material  name="Red" />
    </collision>
   </link>
   <joint  name="parallel_10_legjoint1"  type="revolute" >
    <axis  xyz="0 1 0" />
    <limit  velocity="1"  upper="1.5707963267948966"  lower="-1.5707963267948966"  effort="100" />
    <parent  link="parallel_10_knee" />
    <child  link="parallel_10_leg1" />
    <origin  xyz="-0.005 0 0"  rpy="0 0 0" />
   </joint>
   <joint  name="parallel_10_legjoint2"  type="revolute" >
    <axis  xyz="0 1 0" />
    <limit  velocity="1"  upper="1.5707963267948966"  lower="-1.5707963267948966"  effort="100" />
    <parent  link="parallel_10_knee" />
    <child  link="parallel_10_leg2" />
    <origin  xyz="0.005 0 0"  rpy="0 0 0" />
   </joint>
   <link  name="parallel_10_leg1" >
    <inertial >
     <mass  value="0.01" />
     <inertia  izz="0.001"  ixz="0.0"  iyy="0.001"  ixy="0.0"  iyz="0.0"  ixx="0.001" />
    </inertial>
    <visual >
     <origin  xyz="0 0 0.02"  rpy="0 0 0" />
     <geometry >
      <box  size="0.002 0.002 0.04" />
     </geometry>
     <material  name="white" />
    </visual>
    <collision >
     <origin  xyz="0 0 0.02"  rpy="0 0 0" />
     <geometry >
      <box  size="0.002 0.002 0.04" />
     </geometry>
     <material  name="white" />
    </collision>
   </link>
   <link  name="parallel_10_leg2" >
    <inertial >
     <mass  value="0.01" />
     <inertia  izz="0.001"  ixz="0.0"  iyy="0.001"  ixy="0.0"  iyz="0.0"  ixx="0.001" />
    </inertial>
    <visual >
     <origin  xyz="0 0 0.02"  rpy="0 0 0" />
     <geometry >
      <box  size="0.002 0.002 0.04" />
     </geometry>
     <material  name="white" />
    </visual>
    <collision >
     <origin  xyz="0 0 0.02"  rpy="0 0 0" />
     <geometry >
      <box  size="0.002 0.002 0.04" />
     </geometry>
     <material  name="white" />
    </collision>
   </link>
   <joint  name="parallel_11_kneejoint"  type="revolute" >
    <axis  xyz="1 0 0" />
    <limit  velocity="1"  upper="3.141592653589793"  lower="-3.141592653589793"  effort="100" />
    <parent  link="motor_link_8" />
    <child  link="parallel_11_knee" />
    <origin  xyz="0 0 0.02"  rpy="0 0 0" />
   </joint>
   <link  name="parallel_11_knee" >
    <inertial >
     <mass  value="0.01" />
     <inertia  izz="0.001"  ixz="0.0"  iyy="0.001"  ixy="0.0"  iyz="0.0"  ixx="0.001" />
    </inertial>
    <visual >
     <origin  xyz="0 0 0"  rpy="0 1.5707963267948966 0" />
     <geometry >
      <cylinder  length="0.015"  radius="0.001" />
     </geometry>
     <material  name="Red" />
    </visual>
    <collision >
     <origin  xyz="0 0 0"  rpy="0 1.5707963267948966 0" />
     <geometry >
      <cylinder  length="0.015"  radius="0.001" />
     </geometry>
     <material  name="Red" />
    </collision>
   </link>
   <joint  name="parallel_11_legjoint1"  type="revolute" >
    <axis  xyz="0 1 0" />
    <limit  velocity="1"  upper="1.5707963267948966"  lower="-1.5707963267948966"  effort="100" />
    <parent  link="parallel_11_knee" />
    <child  link="parallel_11_leg1" />
    <origin  xyz="-0.005 0 0"  rpy="0 0 0" />
   </joint>
   <joint  name="parallel_11_legjoint2"  type="revolute" >
    <axis  xyz="0 1 0" />
    <limit  velocity="1"  upper="1.5707963267948966"  lower="-1.5707963267948966"  effort="100" />
    <parent  link="parallel_11_knee" />
    <child  link="parallel_11_leg2" />
    <origin  xyz="0.005 0 0"  rpy="0 0 0" />
   </joint>
   <link  name="parallel_11_leg1" >
    <inertial >
     <mass  value="0.01" />
     <inertia  izz="0.001"  ixz="0.0"  iyy="0.001"  ixy="0.0"  iyz="0.0"  ixx="0.001" />
    </inertial>
    <visual >
     <origin  xyz="0 0 0.02"  rpy="0 0 0" />
     <geometry >
      <box  size="0.002 0.002 0.04" />
     </geometry>
     <material  name="white" />
    </visual>
    <collision >
     <origin  xyz="0 0 0.02"  rpy="0 0 0" />
     <geometry >
      <box  size="0.002 0.002 0.04" />
     </geometry>
     <material  name="white" />
    </collision>
   </link>
   <link  name="parallel_11_leg2" >
    <inertial >
     <mass  value="0.01" />
     <inertia  izz="0.001"  ixz="0.0"  iyy="0.001"  ixy="0.0"  iyz="0.0"  ixx="0.001" />
    </inertial>
    <visual >
     <origin  xyz="0 0 0.02"  rpy="0 0 0" />
     <geometry >
      <box  size="0.002 0.002 0.04" />
     </geometry>
     <material  name="white" />
    </visual>
    <collision >
     <origin  xyz="0 0 0.02"  rpy="0 0 0" />
     <geometry >
      <box  size="0.002 0.002 0.04" />
     </geometry>
     <material  name="white" />
    </collision>
   </link>
   <joint  name="parallel_12_kneejoint"  type="revolute" >
    <axis  xyz="1 0 0" />
    <limit  velocity="1"  upper="3.141592653589793"  lower="-3.141592653589793"  effort="100" />
    <parent  link="motor_link_9" />
    <child  link="parallel_12_knee" />
    <origin  xyz="0 0 0.02"  rpy="0 0 0" />
   </joint>
   <link  name="parallel_12_knee" >
    <inertial >
     <mass  value="0.01" />
     <inertia  izz="0.001"  ixz="0.0"  iyy="0.001"  ixy="0.0"  iyz="0.0"  ixx="0.001" />
    </inertial>
    <visual >
     <origin  xyz="0 0 0"  rpy="0 1.5707963267948966 0" />
     <geometry >
      <cylinder  length="0.015"  radius="0.001" />
     </geometry>
     <material  name="Red" />
    </visual>
    <collision >
     <origin  xyz="0 0 0"  rpy="0 1.5707963267948966 0" />
     <geometry >
      <cylinder  length="0.015"  radius="0.001" />
     </geometry>
     <material  name="Red" />
    </collision>
   </link>
   <joint  name="parallel_12_legjoint1"  type="revolute" >
    <axis  xyz="0 1 0" />
    <limit  velocity="1"  upper="1.5707963267948966"  lower="-1.5707963267948966"  effort="100" />
    <parent  link="parallel_12_knee" />
    <child  link="parallel_12_leg1" />
    <origin  xyz="-0.005 0 0"  rpy="0 0 0" />
   </joint>
   <joint  name="parallel_12_legjoint2"  type="revolute" >
    <axis  xyz="0 1 0" />
    <limit  velocity="1"  upper="1.5707963267948966"  lower="-1.5707963267948966"  effort="100" />
    <parent  link="parallel_12_knee" />
    <child  link="parallel_12_leg2" />
    <origin  xyz="0.005 0 0"  rpy="0 0 0" />
   </joint>
   <link  name="parallel_12_leg1" >
    <inertial >
     <mass  value="0.01" />
     <inertia  izz="0.001"  ixz="0.0"  iyy="0.001"  ixy="0.0"  iyz="0.0"  ixx="0.001" />
    </inertial>
    <visual >
     <origin  xyz="0 0 0.02"  rpy="0 0 0" />
     <geometry >
      <box  size="0.002 0.002 0.04" />
     </geometry>
     <material  name="white" />
    </visual>
    <collision >
     <origin  xyz="0 0 0.02"  rpy="0 0 0" />
     <geometry >
      <box  size="0.002 0.002 0.04" />
     </geometry>
     <material  name="white" />
    </collision>
   </link>
   <link  name="parallel_12_leg2" >
    <inertial >
     <mass  value="0.01" />
     <inertia  izz="0.001"  ixz="0.0"  iyy="0.001"  ixy="0.0"  iyz="0.0"  ixx="0.001" />
    </inertial>
    <visual >
     <origin  xyz="0 0 0.02"  rpy="0 0 0" />
     <geometry >
      <box  size="0.002 0.002 0.04" />
     </geometry>
     <material  name="white" />
    </visual>
    <collision >
     <origin  xyz="0 0 0.02"  rpy="0 0 0" />
     <geometry >
      <box  size="0.002 0.002 0.04" />
     </geometry>
     <material  name="white" />
    </collision>
   </link>

</robot>
